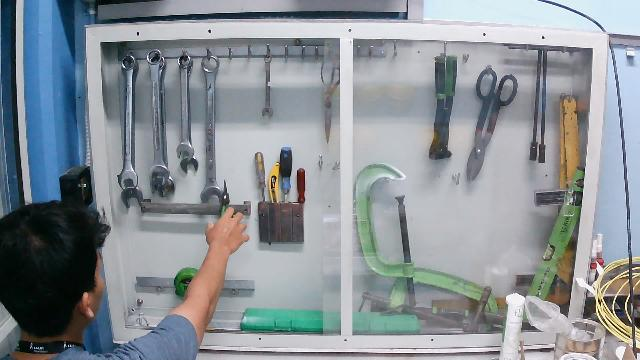tang_cucut_lancip_2: (200, 177, 252, 249)
